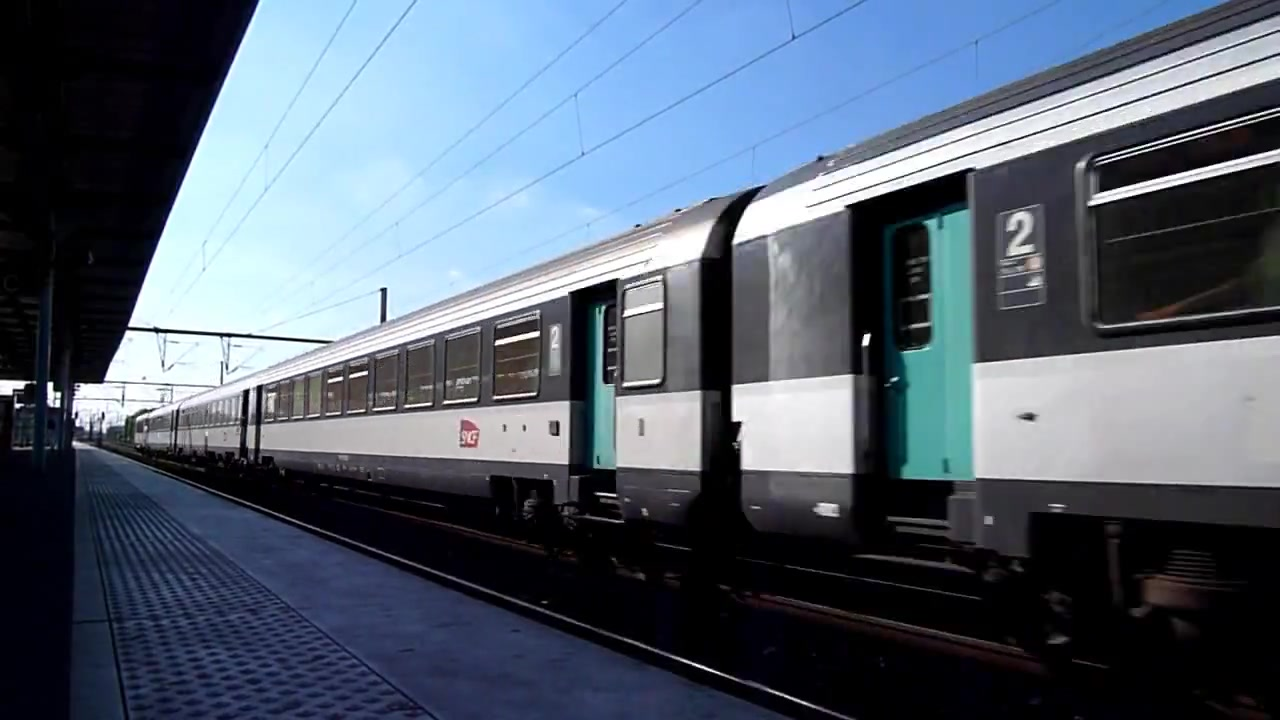train: (129, 1, 1280, 687)
